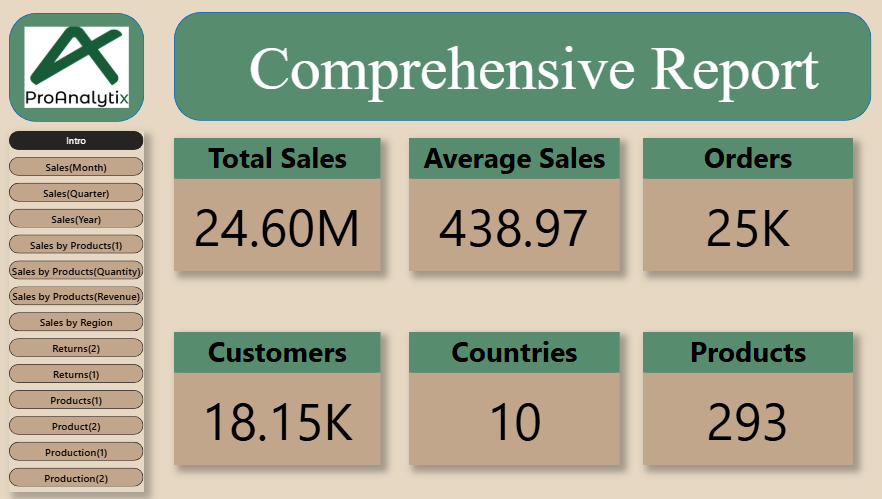

This screenshot's page, from the dashboard's own definition file:
{"tool":"powerbi","page":{"name":"Intro","canvas":[1280,720],"ordinal":0},"visuals":[{"type":"shape","box":[16.1,17.9,193.1,155.5],"z":0},{"type":"shape","box":[252,17.3,996.5,155.5],"z":1000},{"type":"image","box":[32.2,26.8,159.1,137.7],"z":2000},{"type":"textbox","box":[308.2,41.8,913,122.4],"z":3000},{"type":"card","title":"Total Sales","fields":{"Values":["AllMeasures.Total Sales"]},"box":[252,197.3,295.2,190.1],"z":4000},{"type":"card","title":"Average Sales","fields":{"Values":["AllMeasures.Average Sales"]},"box":[587.5,197.3,301,190.1],"z":5000},{"type":"card","title":"Orders","fields":{"Values":["AllMeasures.# Orders"]},"box":[921.6,197.3,299.5,190.1],"z":6000},{"type":"card","title":"Customers","fields":{"Values":["CountNonNull(Customers.CustomerID)"]},"box":[252,473.8,295.2,190.1],"z":7000},{"type":"card","title":"Countries","fields":{"Values":["CountNonNull(Territories.Country)"]},"box":[587.5,473.8,301,190.1],"z":8000},{"type":"card","title":"Products","fields":{"Values":["CountNonNull(ProductsDetails.ProductID)"]},"box":[921.6,473.8,299.5,190.1],"z":9000},{"type":"pageNavigator","box":[15.8,187.2,193,515.5],"z":10000}]}

Visuals, with their boxes in screenshot pixels (x1, y1, x2, y2), scaled from the page's 1280x720 canvas onto the 882x499 screenshot:
shape: <box>11,12,144,120</box>
shape: <box>174,12,860,120</box>
image: <box>22,19,132,114</box>
textbox: <box>212,29,841,114</box>
"Total Sales" card: <box>174,137,377,268</box>
"Average Sales" card: <box>405,137,612,268</box>
"Orders" card: <box>635,137,841,268</box>
"Customers" card: <box>174,328,377,460</box>
"Countries" card: <box>405,328,612,460</box>
"Products" card: <box>635,328,841,460</box>
pageNavigator: <box>11,130,144,487</box>
